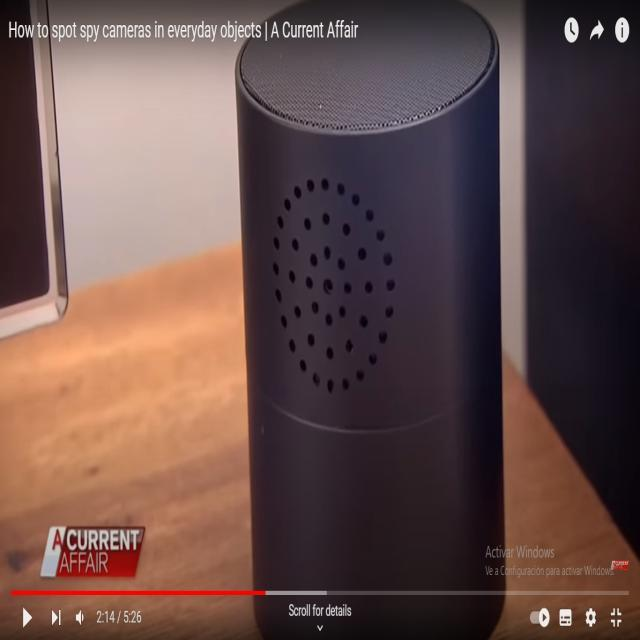hidden camera: (322, 274, 335, 299)
